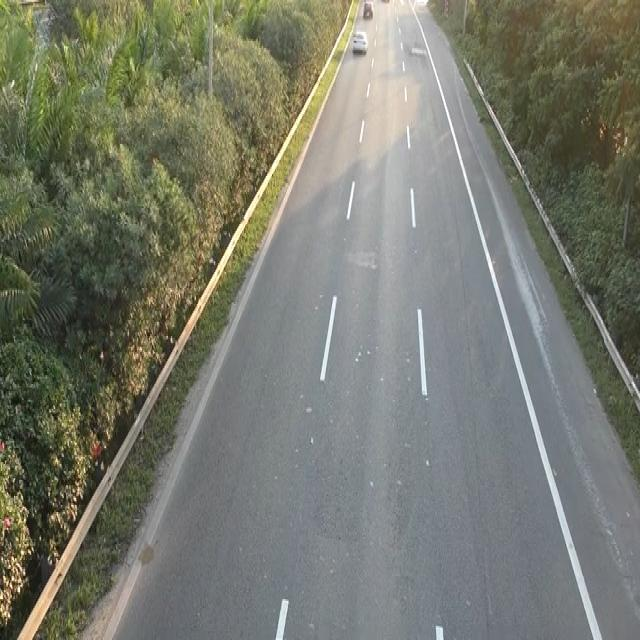bus: (349, 25, 371, 60), (361, 0, 374, 20)
